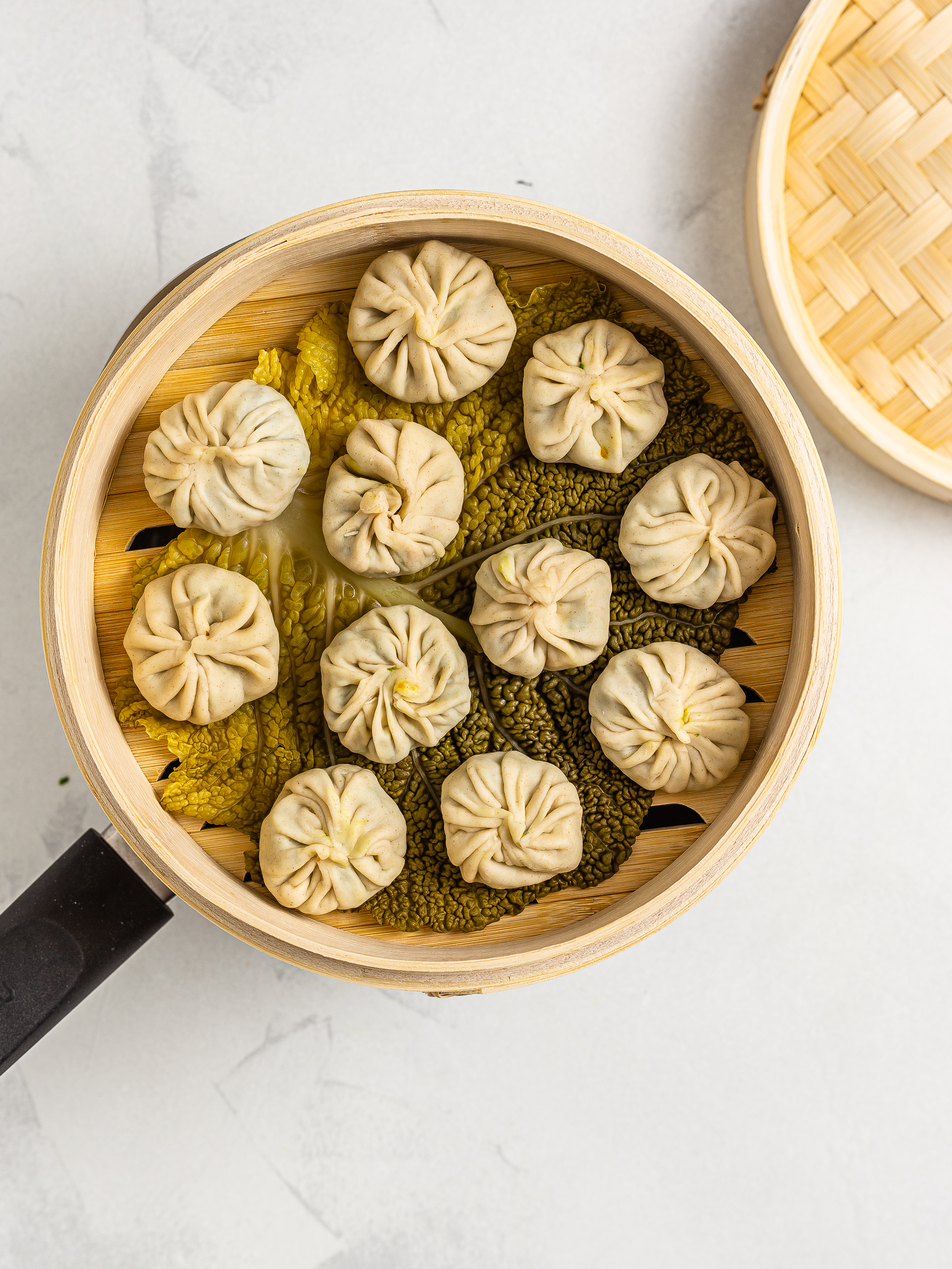momo: (347, 241, 525, 408), (622, 446, 791, 605), (118, 562, 285, 719), (516, 321, 678, 477), (325, 598, 478, 760), (149, 382, 310, 535), (591, 641, 759, 784), (253, 769, 405, 912), (478, 538, 622, 680), (320, 434, 463, 572), (434, 753, 586, 878)
